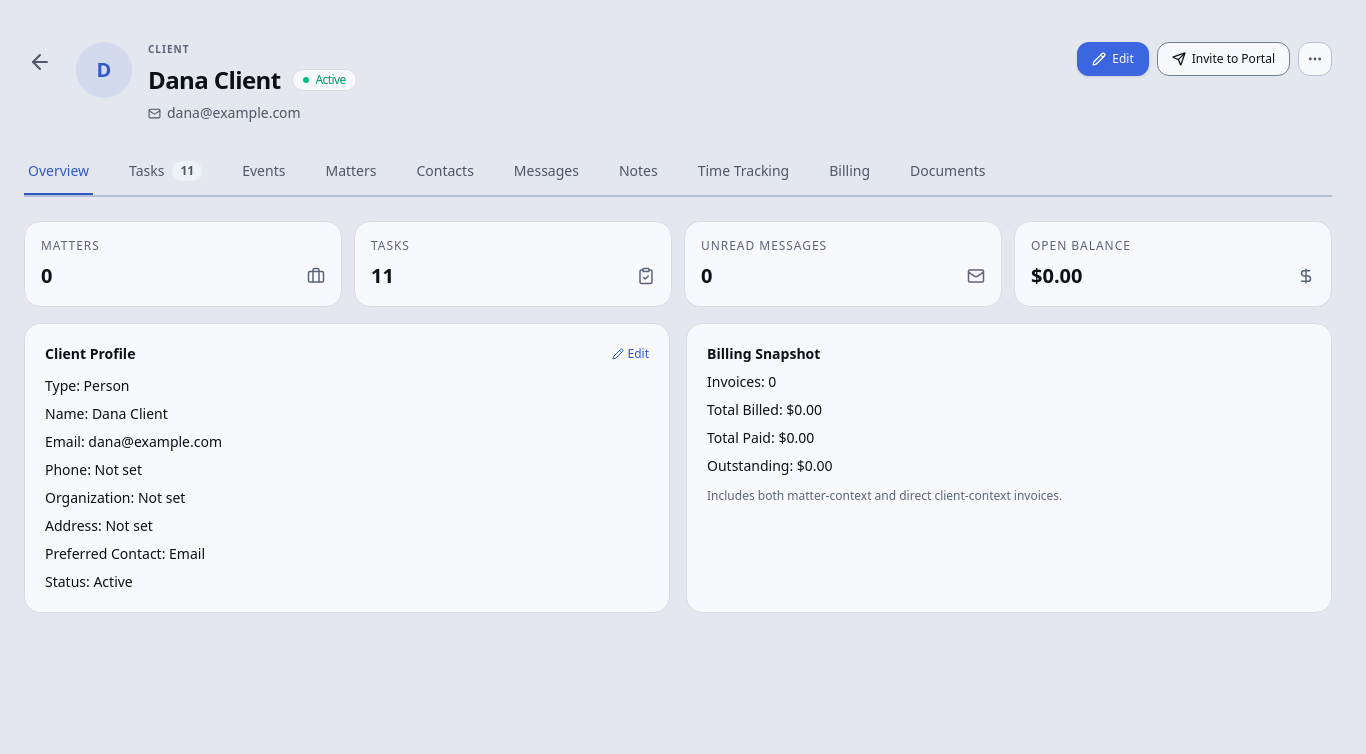
Scenario: deleting a task from the client page › returns to the first page after deleting the only task on the final page
Expected: the heading "Dana Client Active" is shown, [148,63,357,96]
Click the 1st button "Tasks 11": [166, 172] box [125,149,206,195]
(page scrolled)
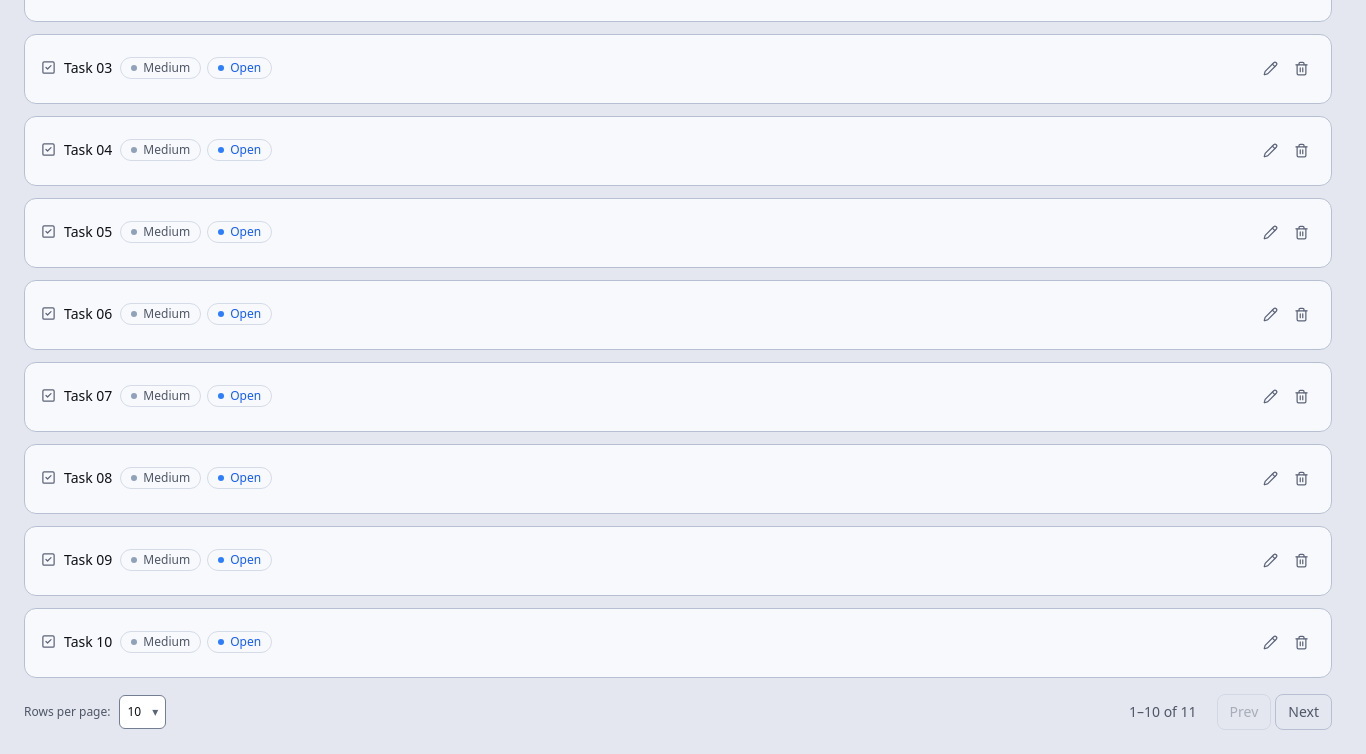
Click the button "Next": [1304, 712] box [1275,694,1332,730]
(page scrolled)
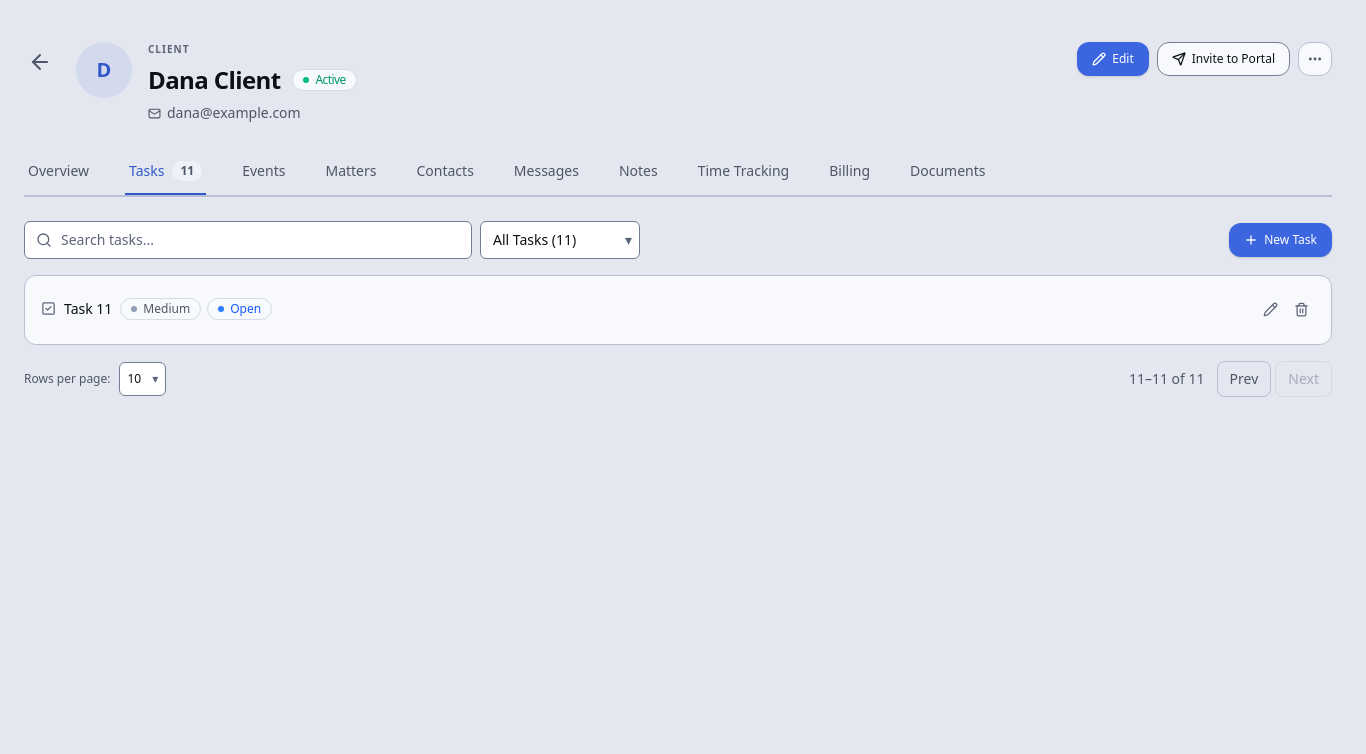
Expected: the text "Task 11" is shown, [41,299,112,319]
Click the button named "Delete Task 11": [1302, 310] box [1288,296,1315,323]
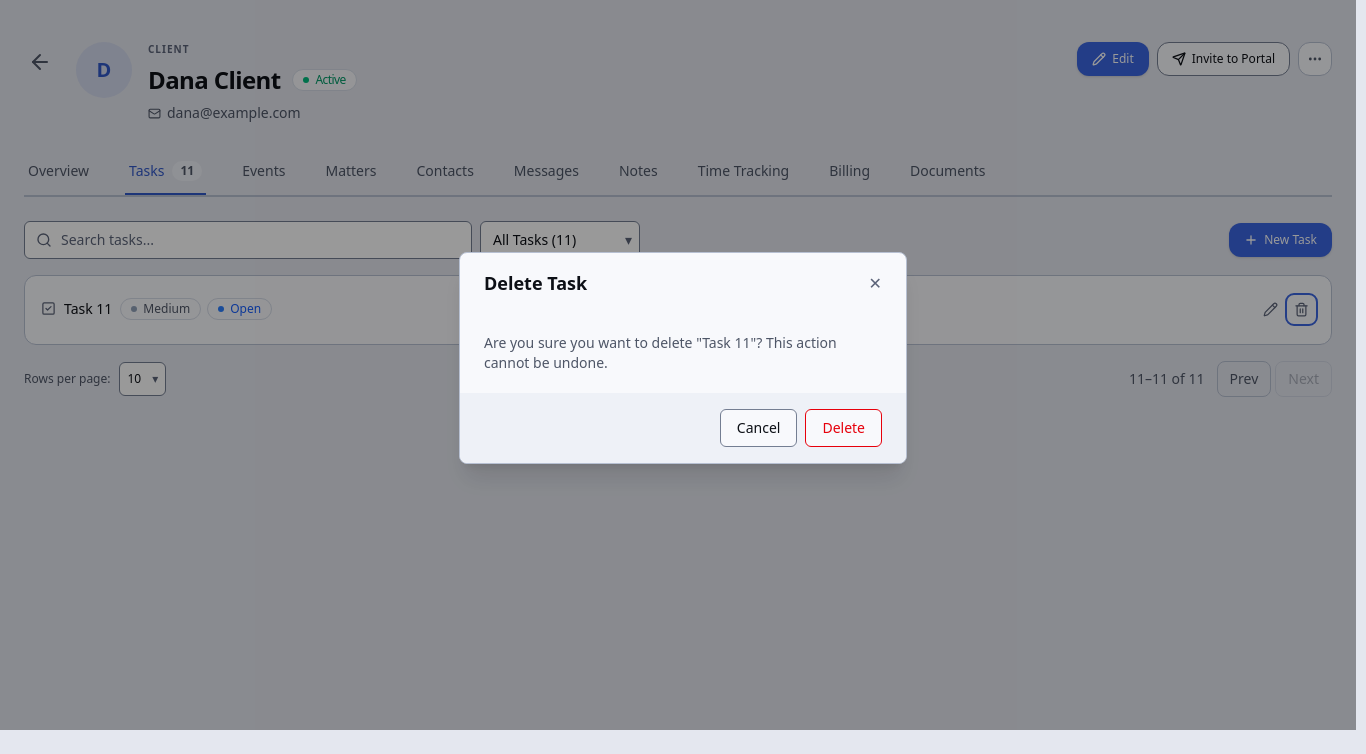
Click the button "Delete": [844, 428] box [805,409,882,447]
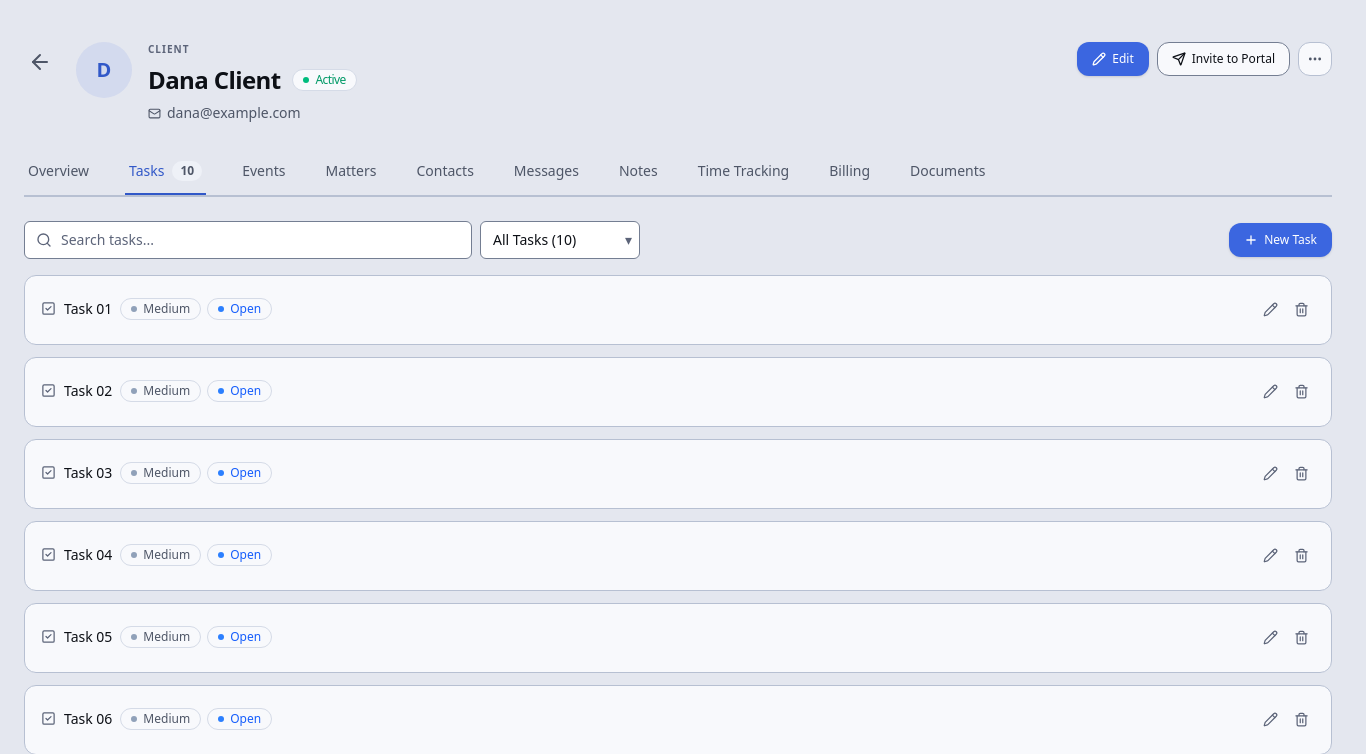
Expected: the text "Task 01" is shown, [41,299,112,319]
